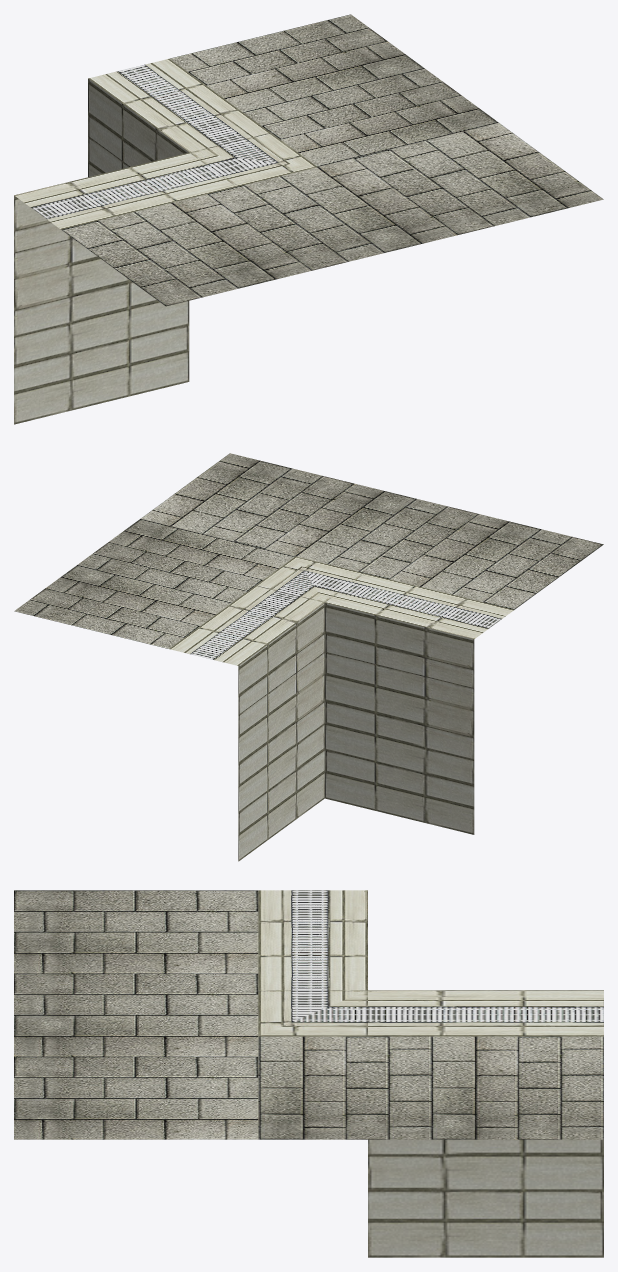
The model's file is Pool01_Crn.obj.
3 views of the same model, one above another, from view 1: azimuth 30°, elevation 25°; view 2: azimuth 150°, elevation 25°; view 3: azimuth 270°, elevation 25° (orthographic). The views are drawn at different scales.
Visible parts, largest first — view 1: Pool01Crn; view 2: Pool01Crn; view 3: Pool01Crn.
Part boxes in pixels (bbox=[...]): Pool01Crn: bbox=[14, 14, 603, 424]; Pool01Crn: bbox=[14, 453, 603, 861]; Pool01Crn: bbox=[14, 890, 603, 1257].
Size of the model in its own units: 5 by 2.5 by 5.
